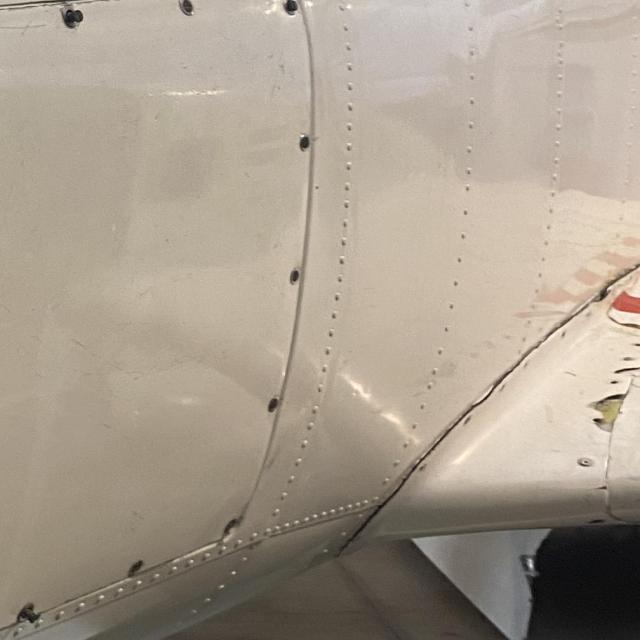Crack: (345, 422, 465, 544), (534, 255, 640, 346), (470, 366, 514, 409), (594, 395, 627, 431), (615, 364, 640, 381), (594, 482, 608, 492)
